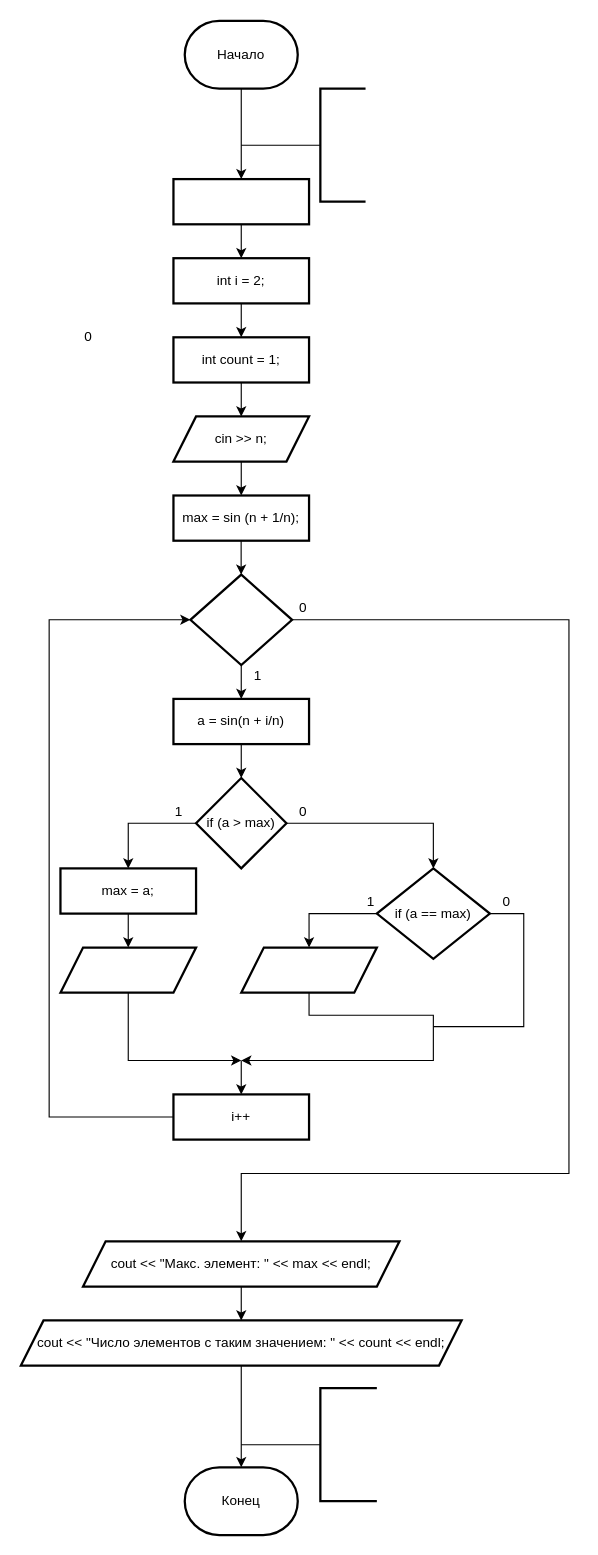
This 598x1555 diagram has some shape labels left out. Here are the shapes that lost their labels. From the top down, the centre of each, then its label:
the point at 342,144: #include <iostream> #include <cmath> using namespace std; int main(){
the point at 241,201: float n, a, max;
the point at 241,619: while (i <= n)
the point at 128,969: count = 1;
the point at 308,969: count++;
the point at 348,1444: return 0; }
